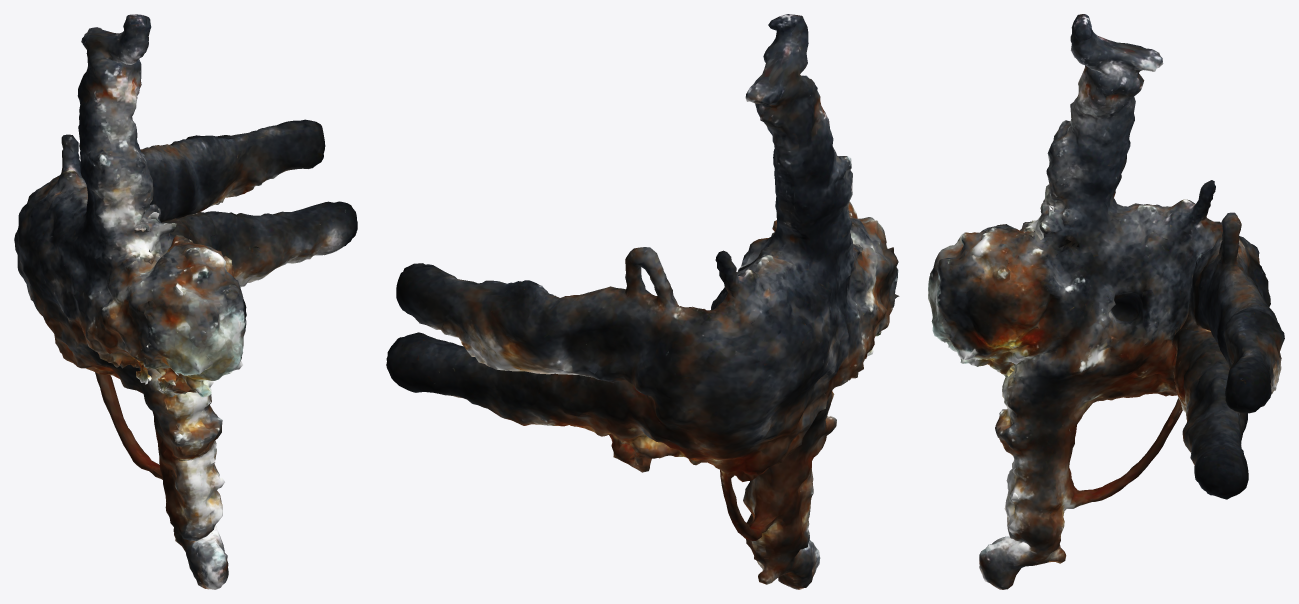
The model's file is astronaut_pose1.glb.
3 views of the same model, side by side, from view 1: azimuth 30°, elevation 25°; view 2: azimuth 150°, elevation 25°; view 3: azimuth 270°, elevation 25° (orthographic). The views are drawn at different scales.
Parts seen in each view (by area): view 1: model; view 2: model; view 3: model.
Boxes of the visible parts, x1,y1,x2,y2 form: model: (14, 14, 357, 589); model: (386, 14, 899, 589); model: (928, 14, 1284, 589).
Bounding box in the file's own units: 0.7575 × 1.14 × 0.6666.
Materials: 1 (1 with a texture image).
